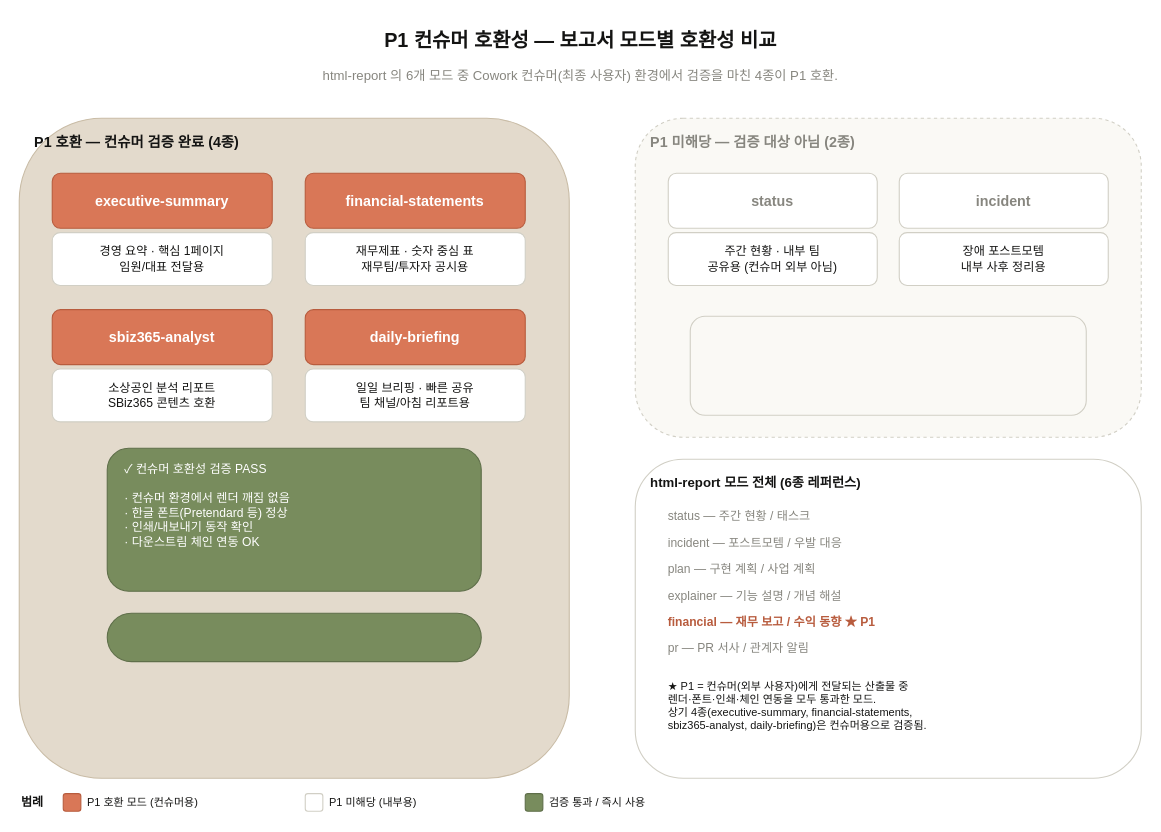
Image size: 1161x832. Some labels were removed from this diagram. Each missing label, with the centre of its shape:
"내부 워크플로우 용도 컨슈머(외부 사용자) 산출물이 아니므로 P1 호환성 검증 범위에서 제외됨" belongs at point (887, 365).
"즉시 사용 가능 — 별도 설정 없이 컨슈머 산출물로 직행" belongs at point (293, 637).
